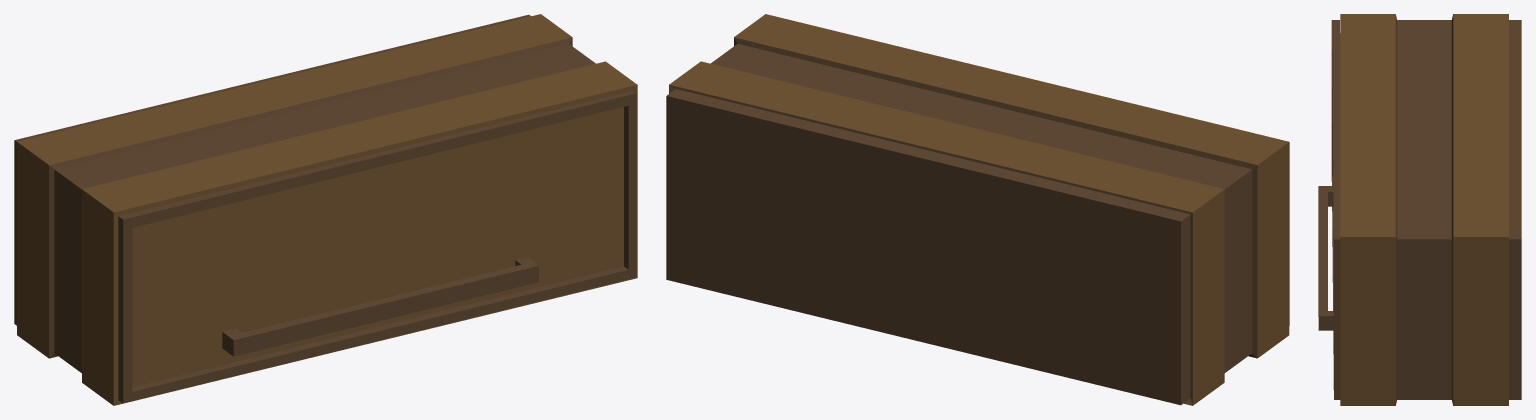
File: Armario 2.fbx
3 renders of one model, left to right at view 1: azimuth 30°, elevation 25°; view 2: azimuth 150°, elevation 25°; view 3: azimuth 270°, elevation 25°, orthographic. The views are drawn at different scales.
Visible parts, largest first — view 1: porta armario, armario1; view 2: armario1; view 3: armario1, porta armario.
Part boxes in pixels (x1,y1,x2,y2): porta armario: [118, 90, 636, 403]; armario1: [14, 14, 637, 405]; armario1: [666, 14, 1289, 405]; armario1: [1340, 14, 1521, 405]; porta armario: [1318, 20, 1340, 399].
Bounding box in the file's own units: 1453 × 513 × 559.
